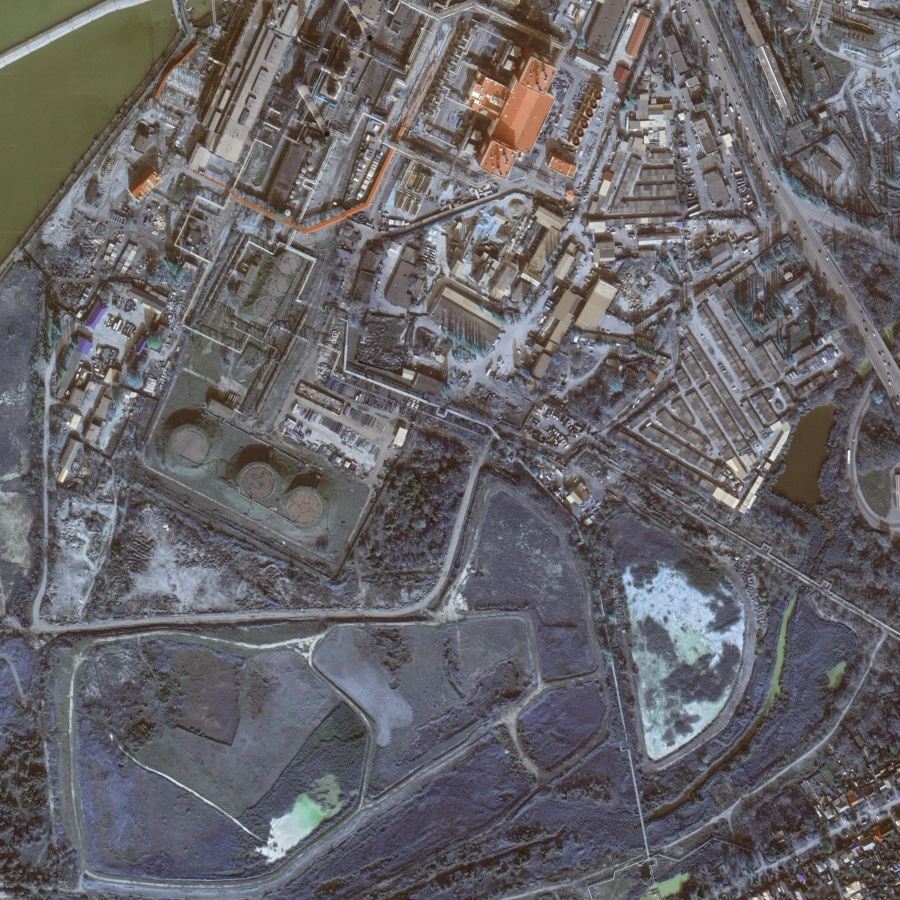PowerPlant: (153, 244, 339, 538)
